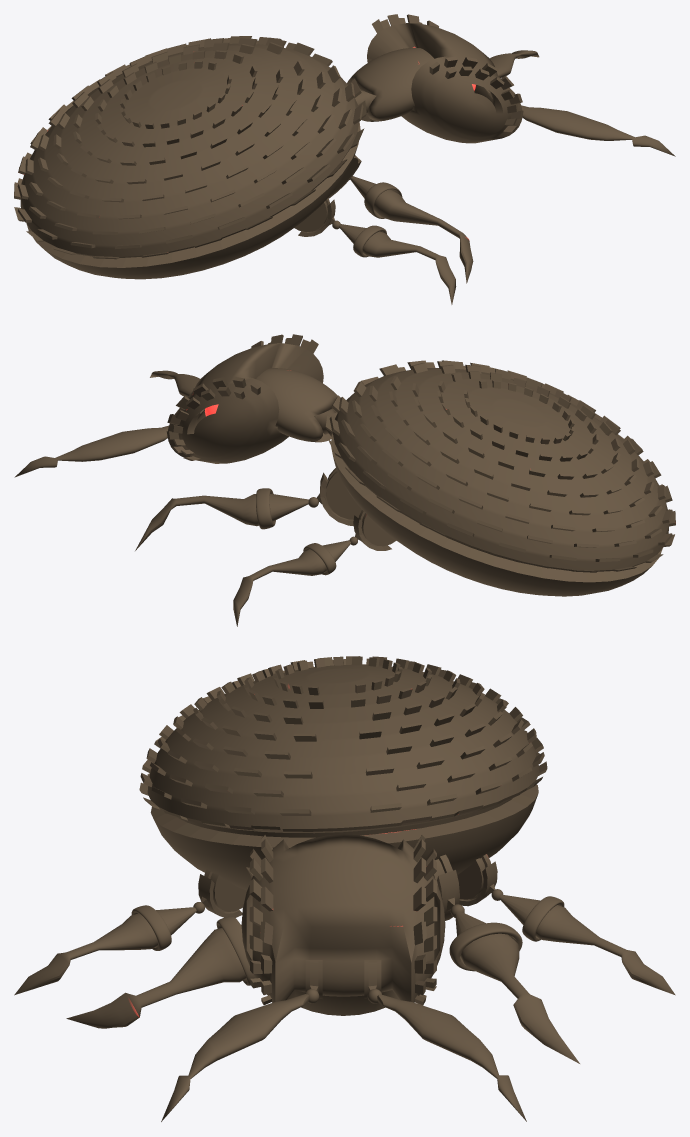
File: lion_aanim.fbx
3 renders of one model, top to bottom at view 1: azimuth 30°, elevation 25°; view 2: azimuth 150°, elevation 25°; view 3: azimuth 270°, elevation 25°, orthographic. The views are drawn at different scales.
Visible parts, largest first — view 1: pSphere7, hand, pSphere2, pCylinder3, polySurface15, polySurface19, pCylinder4, polySurface16, polySurface12; view 2: pSphere7, hand, pSphere2, polySurface28, pCylinder4, polySurface24, polySurface25, polySurface21, polySurface27, pCylinder3, polySurface26; view 3: pSphere7, hand, polySurface15, polySurface28, pCylinder4, pCylinder3, polySurface24, polySurface19, polySurface27, polySurface16, polySurface21, polySurface12 (+3 smaller).
Boxes of the visible parts, bbox=[...] form: pSphere7: bbox=[14, 36, 366, 279]; hand: bbox=[367, 14, 523, 143]; pSphere2: bbox=[347, 47, 434, 121]; pCylinder3: bbox=[521, 105, 675, 156]; polySurface15: bbox=[350, 176, 473, 283]; polySurface19: bbox=[339, 224, 456, 304]; pCylinder4: bbox=[489, 50, 539, 77]; polySurface16: bbox=[294, 198, 329, 232]; polySurface12: bbox=[364, 182, 402, 218]; pSphere7: bbox=[325, 360, 675, 596]; hand: bbox=[166, 334, 323, 463]; pSphere2: bbox=[256, 368, 337, 442]; polySurface28: bbox=[135, 493, 308, 550]; pCylinder4: bbox=[14, 425, 168, 477]; polySurface24: bbox=[233, 540, 350, 626]; polySurface25: bbox=[326, 468, 361, 519]; polySurface21: bbox=[358, 510, 396, 546]; polySurface27: bbox=[256, 488, 275, 529]; pCylinder3: bbox=[150, 370, 200, 397]; polySurface26: bbox=[317, 472, 353, 525]; pSphere7: bbox=[139, 656, 547, 890]; hand: bbox=[241, 834, 445, 1015]; polySurface15: bbox=[66, 924, 246, 1028]; polySurface28: bbox=[455, 911, 579, 1063]; pCylinder4: bbox=[377, 994, 526, 1121]; pCylinder3: bbox=[161, 994, 308, 1121]; polySurface24: bbox=[499, 895, 675, 995]; polySurface19: bbox=[14, 907, 196, 995]; polySurface27: bbox=[449, 922, 522, 971]; polySurface16: bbox=[204, 869, 246, 911]; polySurface21: bbox=[457, 854, 490, 899]; polySurface12: bbox=[216, 916, 255, 985].
Size of the model in its own units: 398 by 118 by 294.
